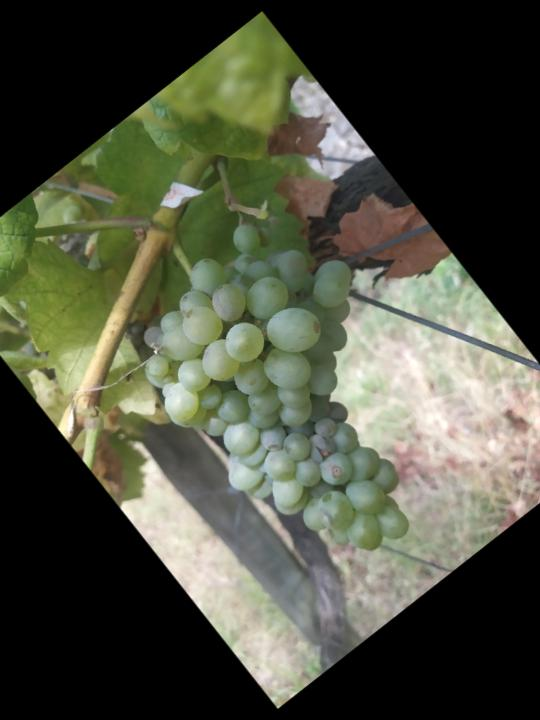grape: (102, 185, 506, 608)
